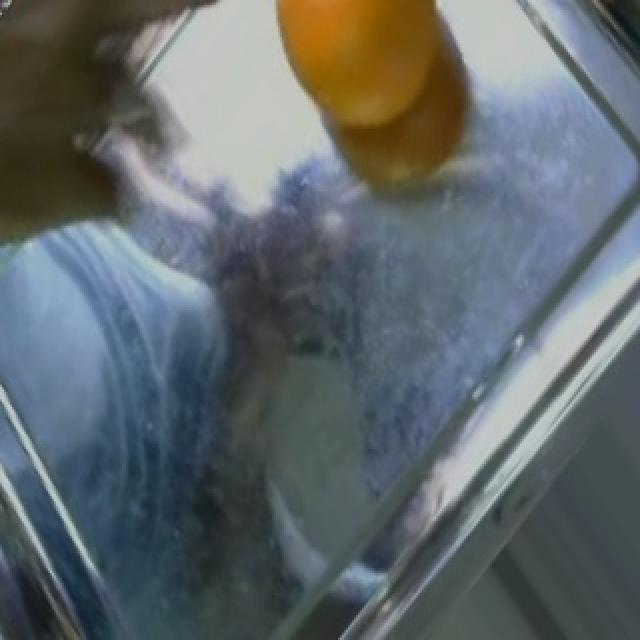Fruit: (252, 2, 494, 224)
